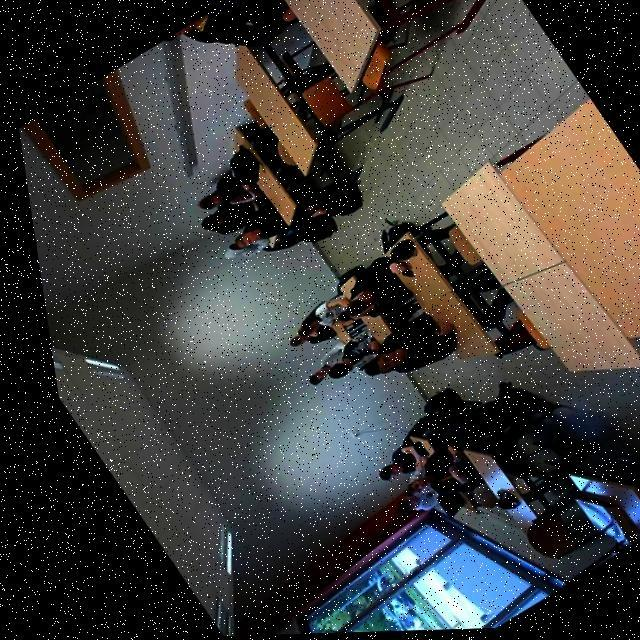phone_use: (309, 325, 378, 383), (201, 200, 253, 232)
